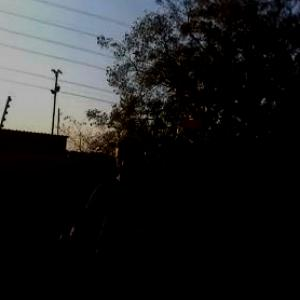follow: (54, 126, 164, 299)
